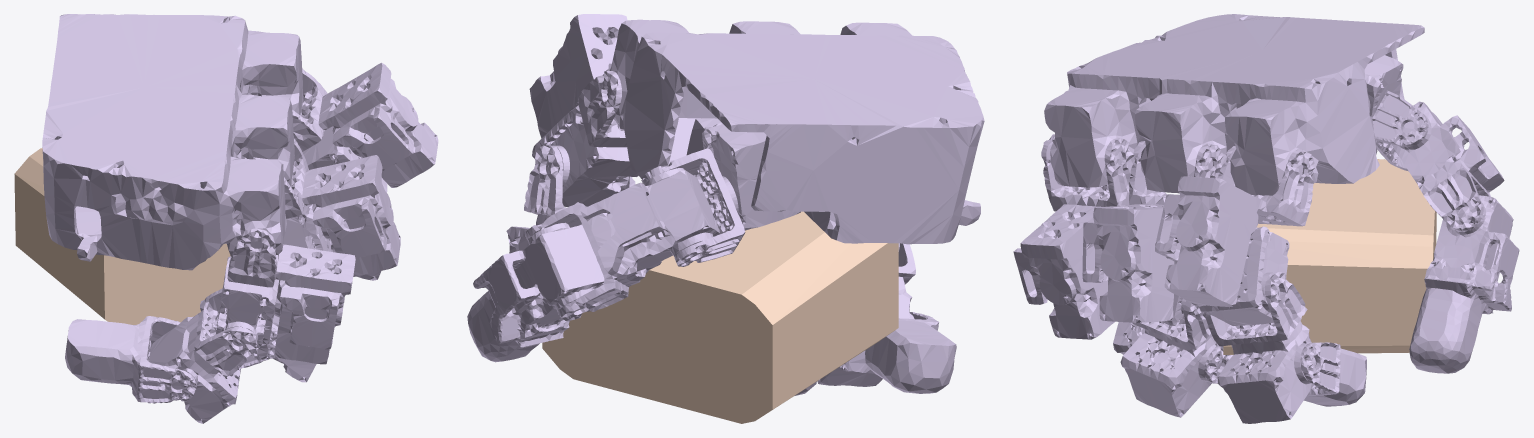
File: 005ab324d71960-closed.glb
3 views of the same model, side by side, from view 1: azimuth 30°, elevation 25°; view 2: azimuth 150°, elevation 25°; view 3: azimuth 270°, elevation 25° (orthographic). The views are drawn at different scales.
Visible parts, largest first — view 1: LEAP_hand, world; view 2: LEAP_hand, world; view 3: LEAP_hand, world.
Boxes of the visible parts, box(x1,y1,x2,y2) form: LEAP_hand: box(42, 14, 438, 423); world: box(14, 148, 230, 324); LEAP_hand: box(467, 14, 984, 395); world: box(542, 183, 898, 423); LEAP_hand: box(1013, 14, 1519, 423); world: box(1223, 159, 1436, 354).
Size of the model in its own units: 0.1888 by 0.1518 by 0.2027.
